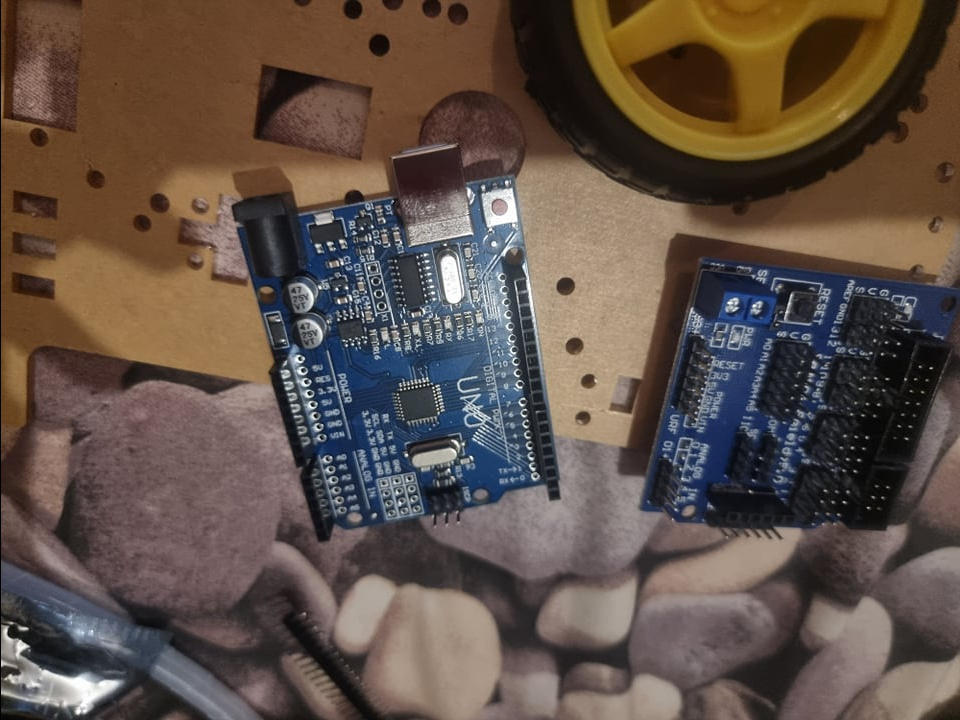5V EXPANSION: (637, 257, 958, 535)
UNO R3: (228, 121, 559, 543)
